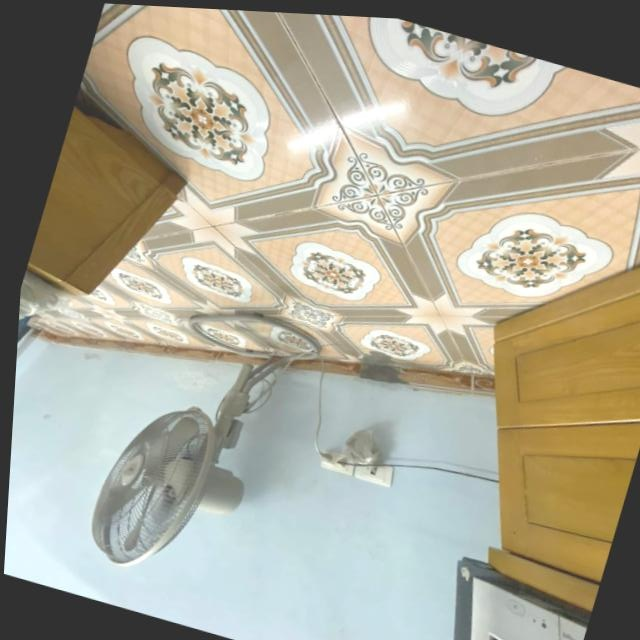outlet: (351, 456, 397, 488), (316, 448, 358, 478)
